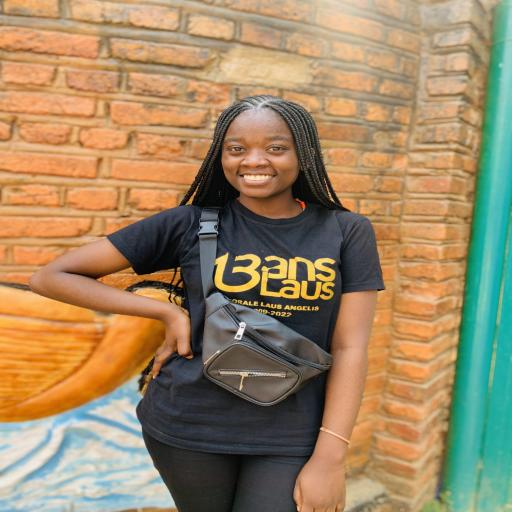LAURENE: (195, 90, 327, 230)
